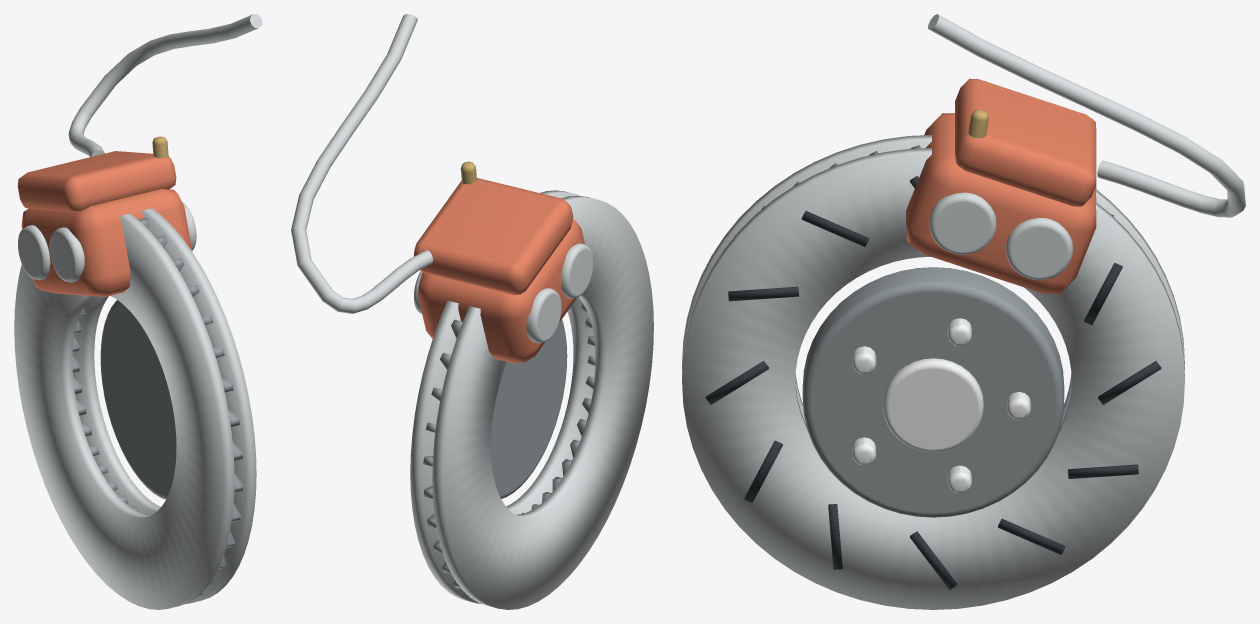
The model's file is brakes_race.fbx.
3 renders of one model, left to right at view 1: azimuth 30°, elevation 25°; view 2: azimuth 150°, elevation 25°; view 3: azimuth 270°, elevation 25°, orthographic. The views are drawn at different scales.
Parts seen in each view (by area): view 1: brakes_race; view 2: brakes_race; view 3: brakes_race.
Part boxes in pixels (left/top/right/bottom): brakes_race: left=14, top=14, right=262, bottom=609; brakes_race: left=291, top=14, right=653, bottom=609; brakes_race: left=682, top=14, right=1245, bottom=609.
Bounding box in the file's own units: 17.27 × 47.48 × 37.
